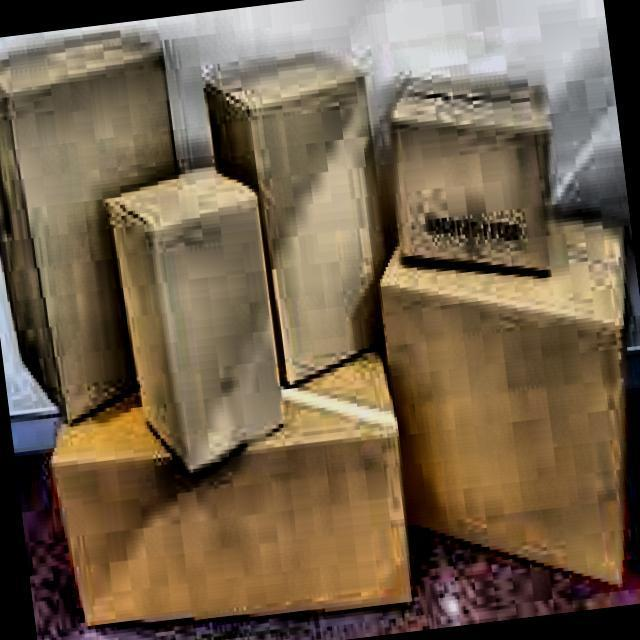cardboard: (41, 338, 421, 640), (369, 200, 640, 608), (0, 21, 208, 430), (202, 41, 405, 390), (102, 158, 292, 478), (378, 57, 572, 287)
